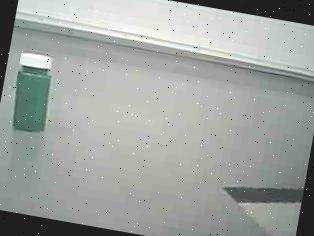Bottle C: (0, 41, 76, 150)
